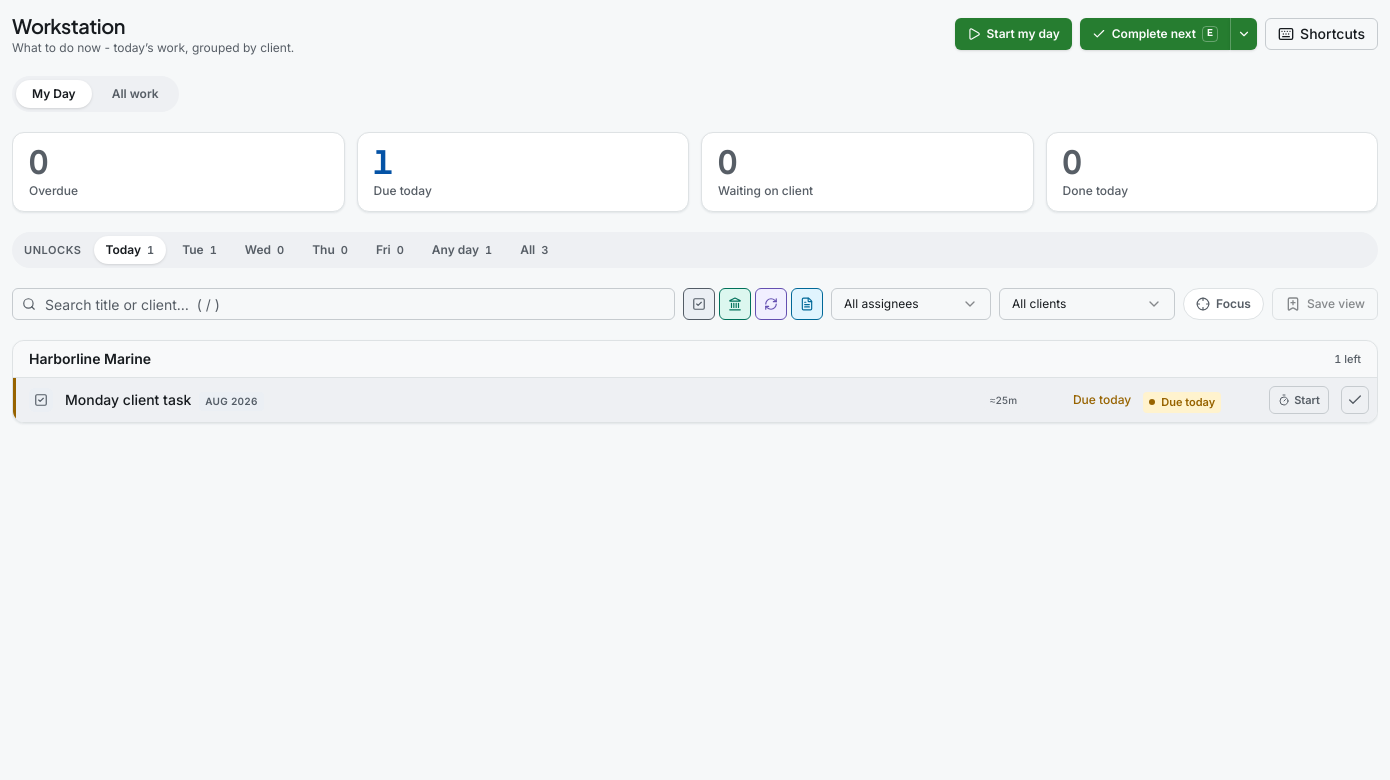
Scenario: WorkstationQueue work-day chips › explains an empty day and offers Show all days
Click the button with test id "work-day-chip-3": (264, 250) [233,236,296,264]
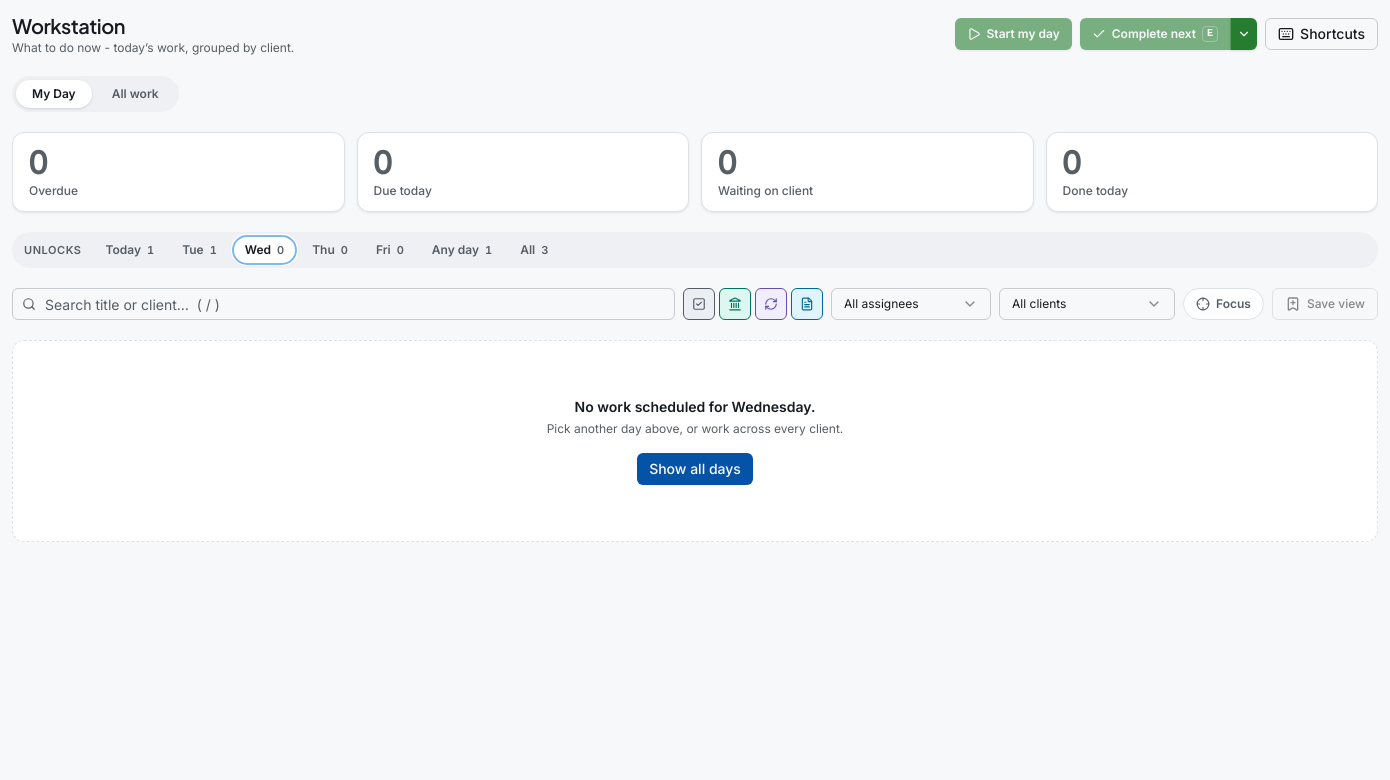
Check: the text "No work scheduled for Wednesday." is shown, box [575,397,815,417]
Click the button "Show all days": (695, 469) [637,453,753,485]
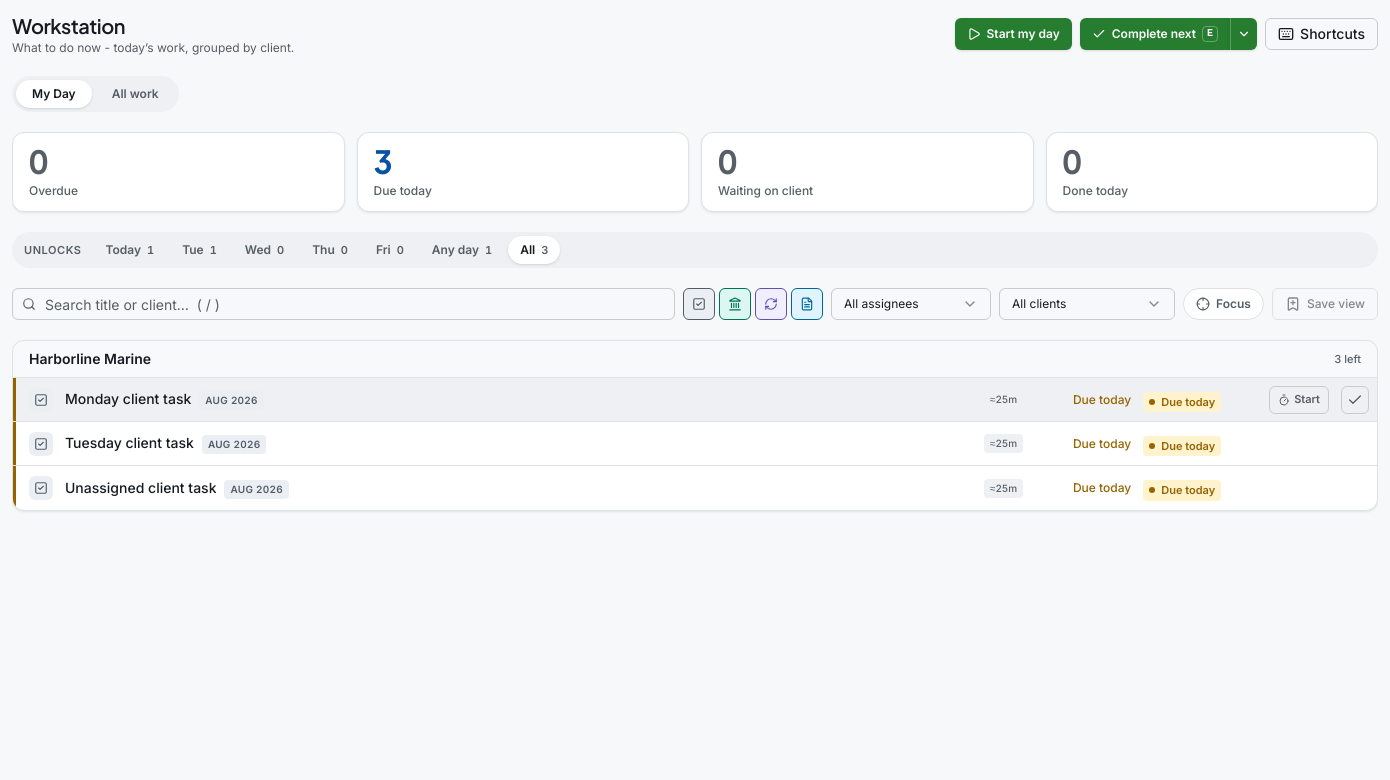
Check: the text "Tuesday client task" is shown, box [65,433,194,453]
